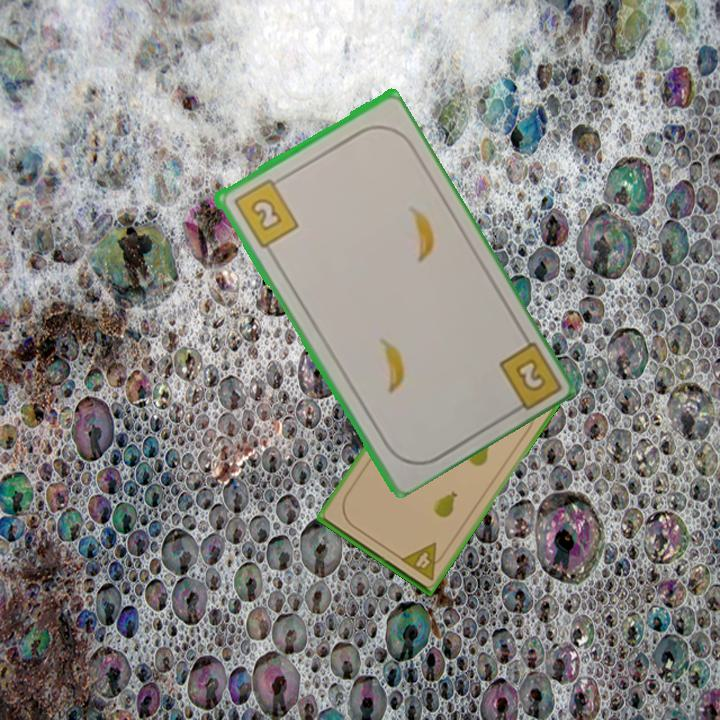2b: (229, 173, 301, 251), (494, 336, 561, 418)
4p: (397, 539, 449, 583)
